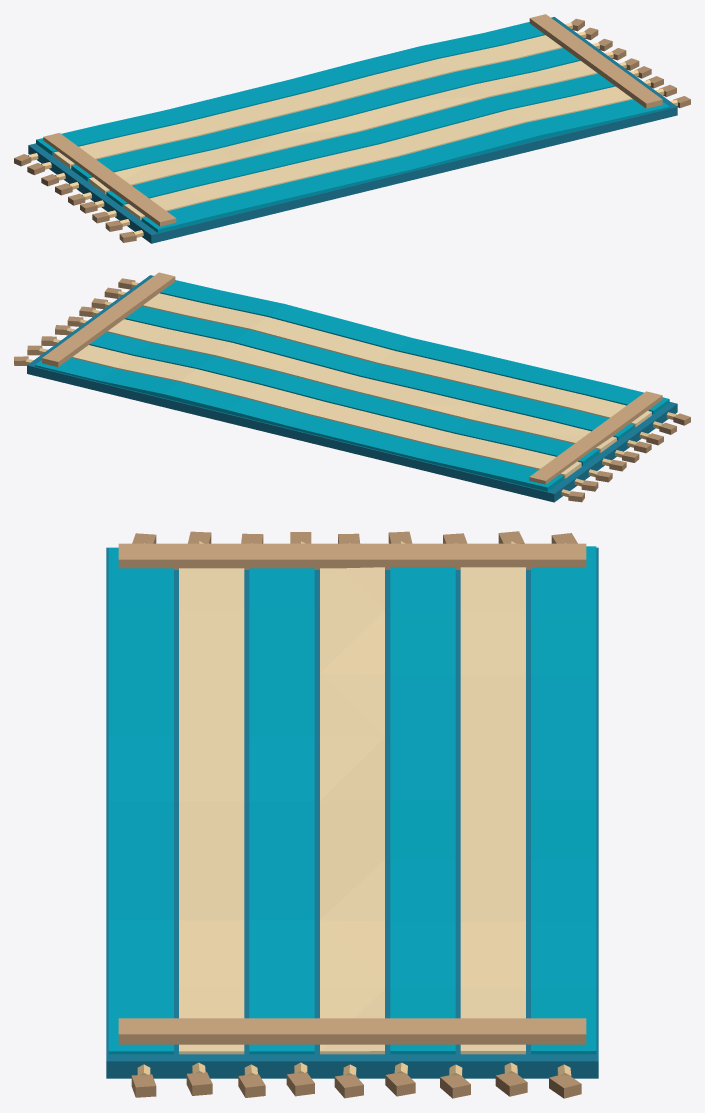
The model's file is BeachTowelStriped.glb.
3 renders of one model, top to bottom at view 1: azimuth 30°, elevation 25°; view 2: azimuth 150°, elevation 25°; view 3: azimuth 270°, elevation 25°, orthographic. The views are drawn at different scales.
Parts seen in each view (by area): view 1: BeachTowelStriped_StripeA01, BeachTowelStriped_StripeA04, BeachTowelStriped_StripeA03, BeachTowelStriped_StripeA02, BeachTowelStriped_StripeB03, BeachTowelStriped_StripeB01, BeachTowelStriped_StripeB02, BeachTowelStriped_Base, BeachTowelStriped_SeamRight, BeachTowelStriped_SeamLeft; view 2: BeachTowelStriped_StripeA04, BeachTowelStriped_StripeB02, BeachTowelStriped_StripeB03, BeachTowelStriped_StripeA03, BeachTowelStriped_StripeA01, BeachTowelStriped_StripeA02, BeachTowelStriped_StripeB01, BeachTowelStriped_Base, BeachTowelStriped_SeamRight, BeachTowelStriped_SeamLeft; view 3: BeachTowelStriped_StripeA04, BeachTowelStriped_StripeA01, BeachTowelStriped_StripeA03, BeachTowelStriped_StripeB03, BeachTowelStriped_StripeA02, BeachTowelStriped_StripeB01, BeachTowelStriped_StripeB02, BeachTowelStriped_Base, BeachTowelStriped_SeamRight, BeachTowelStriped_SeamLeft.
Boxes of the visible parts, <box> form: BeachTowelStriped_StripeA01: <box>141,99,669,232</box>; BeachTowelStriped_StripeA04: <box>36,22,544,155</box>; BeachTowelStriped_StripeA03: <box>71,48,580,181</box>; BeachTowelStriped_StripeA02: <box>106,73,615,207</box>; BeachTowelStriped_StripeB03: <box>53,35,562,168</box>; BeachTowelStriped_StripeB01: <box>124,86,632,219</box>; BeachTowelStriped_StripeB02: <box>89,61,597,194</box>; BeachTowelStriped_Base: <box>28,17,677,243</box>; BeachTowelStriped_SeamRight: <box>529,14,662,108</box>; BeachTowelStriped_SeamLeft: <box>43,133,176,226</box>; BeachTowelStriped_StripeA04: <box>35,358,563,491</box>; BeachTowelStriped_StripeB02: <box>107,319,616,452</box>; BeachTowelStriped_StripeB03: <box>71,345,581,478</box>; BeachTowelStriped_StripeA03: <box>89,332,599,465</box>; BeachTowelStriped_StripeA01: <box>160,280,669,414</box>; BeachTowelStriped_StripeA02: <box>124,306,634,439</box>; BeachTowelStriped_StripeB01: <box>142,293,651,427</box>; BeachTowelStriped_Base: <box>27,275,677,502</box>; BeachTowelStriped_SeamRight: <box>42,272,175,367</box>; BeachTowelStriped_SeamLeft: <box>529,391,662,484</box>; BeachTowelStriped_StripeA04: <box>531,546,596,1054</box>; BeachTowelStriped_StripeA01: <box>108,548,173,1054</box>; BeachTowelStriped_StripeA03: <box>390,567,455,1054</box>; BeachTowelStriped_StripeB03: <box>460,567,525,1054</box>; BeachTowelStriped_StripeA02: <box>249,568,314,1054</box>; BeachTowelStriped_StripeB01: <box>179,568,244,1054</box>; BeachTowelStriped_StripeB02: <box>320,567,384,1054</box>; BeachTowelStriped_Base: <box>106,547,598,1078</box>; BeachTowelStriped_SeamRight: <box>118,1018,586,1044</box>; BeachTowelStriped_SeamLeft: <box>118,543,586,569</box>.
Size of the model in its own units: 6.27 by 0.1725 by 2.35.
